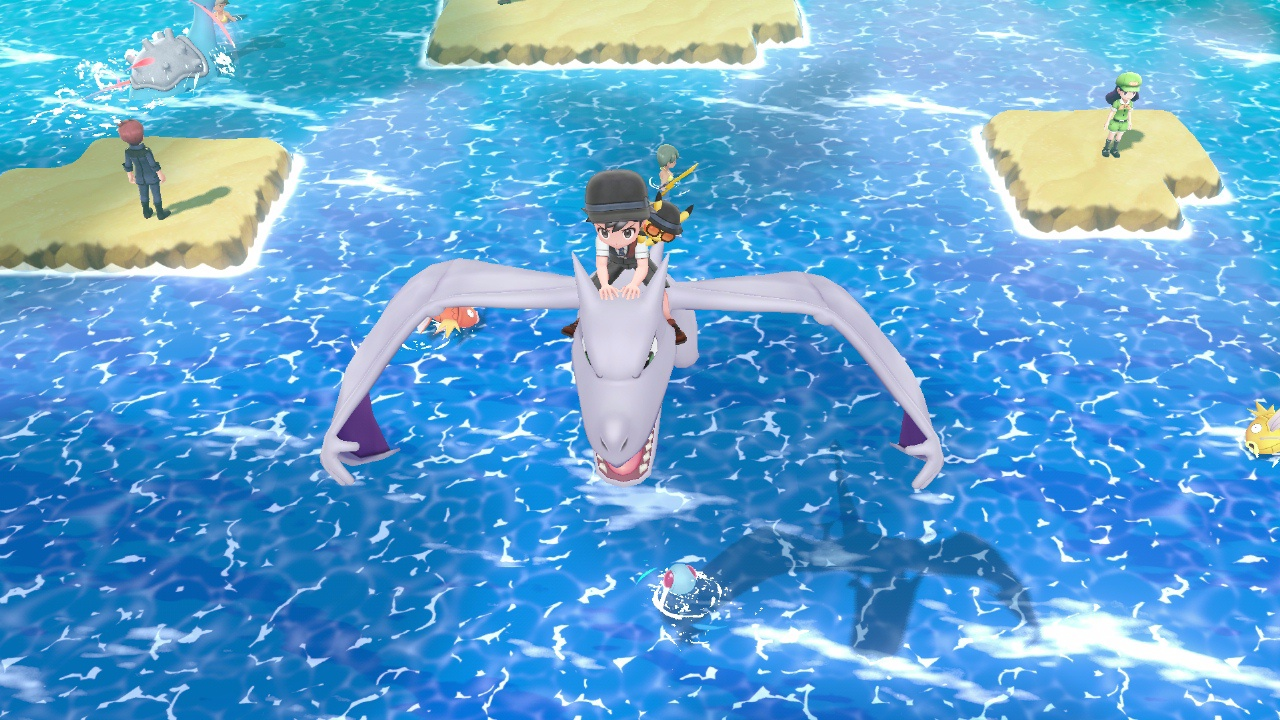Golden: (1243, 403, 1280, 459)
